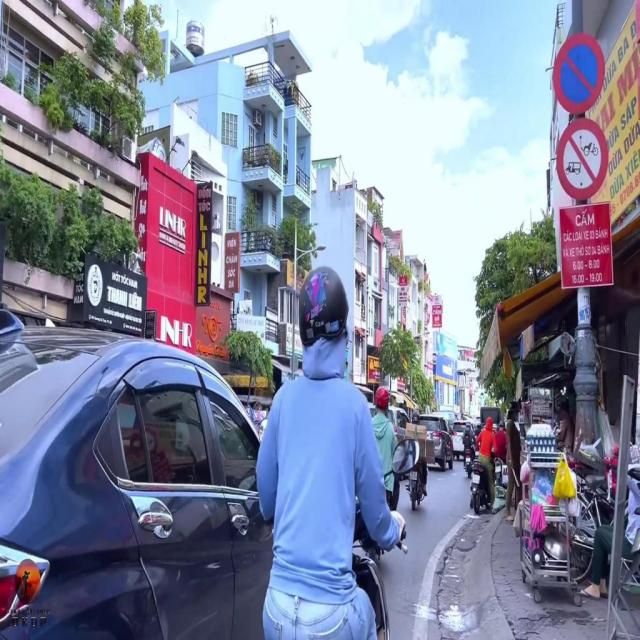cam_cac_loai_xe_3_banh: (556, 120, 608, 198)
cam_do_xe: (554, 33, 604, 112)
